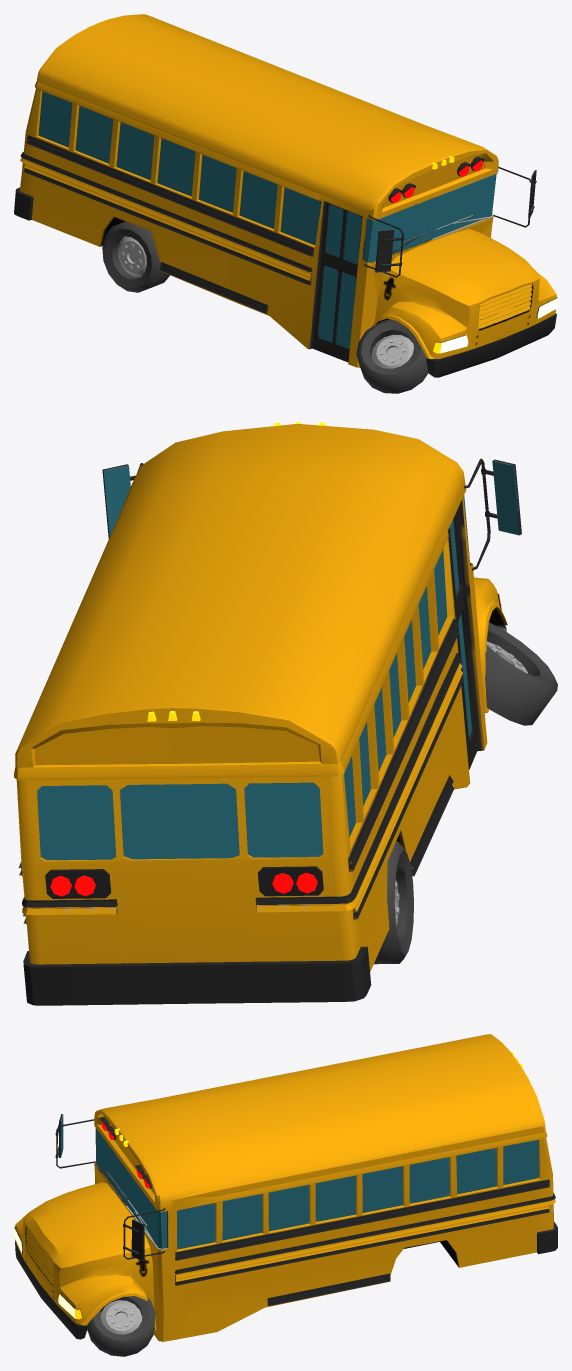
The model's file is SchoolbusCrashed.fbx.
3 views of the same model, one above another, from view 1: azimuth 30°, elevation 25°; view 2: azimuth 150°, elevation 25°; view 3: azimuth 270°, elevation 25° (orthographic). The views are drawn at different scales.
Parts seen in each view (by area): view 1: SchoolBus, SchoolBusW-FR, SchoolBusW-BR; view 2: SchoolBus, SchoolBusW-FR, SchoolBusW-BR; view 3: SchoolBus, SchoolBusW-FL.
Boxes of the visible parts, x1=… form: SchoolBus: x1=14, y1=14, x2=557, y2=377; SchoolBusW-FR: x1=356, y1=319, x2=428, y2=393; SchoolBusW-BR: x1=102, y1=221, x2=169, y2=292; SchoolBus: x1=14, y1=422, x2=521, y2=1005; SchoolBusW-FR: x1=485, y1=622, x2=557, y2=725; SchoolBusW-BR: x1=374, y1=841, x2=413, y2=964; SchoolBus: x1=14, y1=1034, x2=557, y2=1341; SchoolBusW-FL: x1=87, y1=1296, x2=155, y2=1356.
Bounding box in the file's own units: 570 × 335 × 841.
